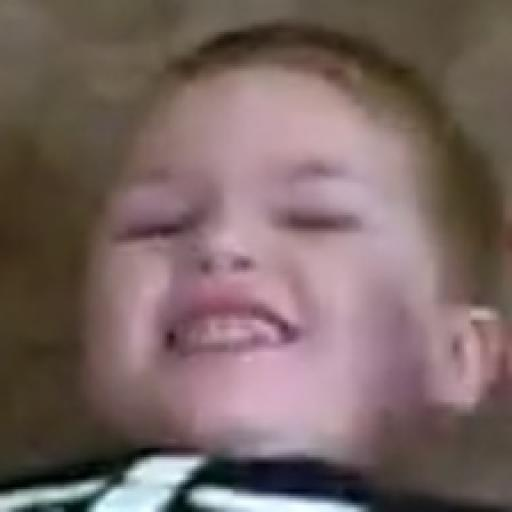Autism: (52, 34, 512, 511)
